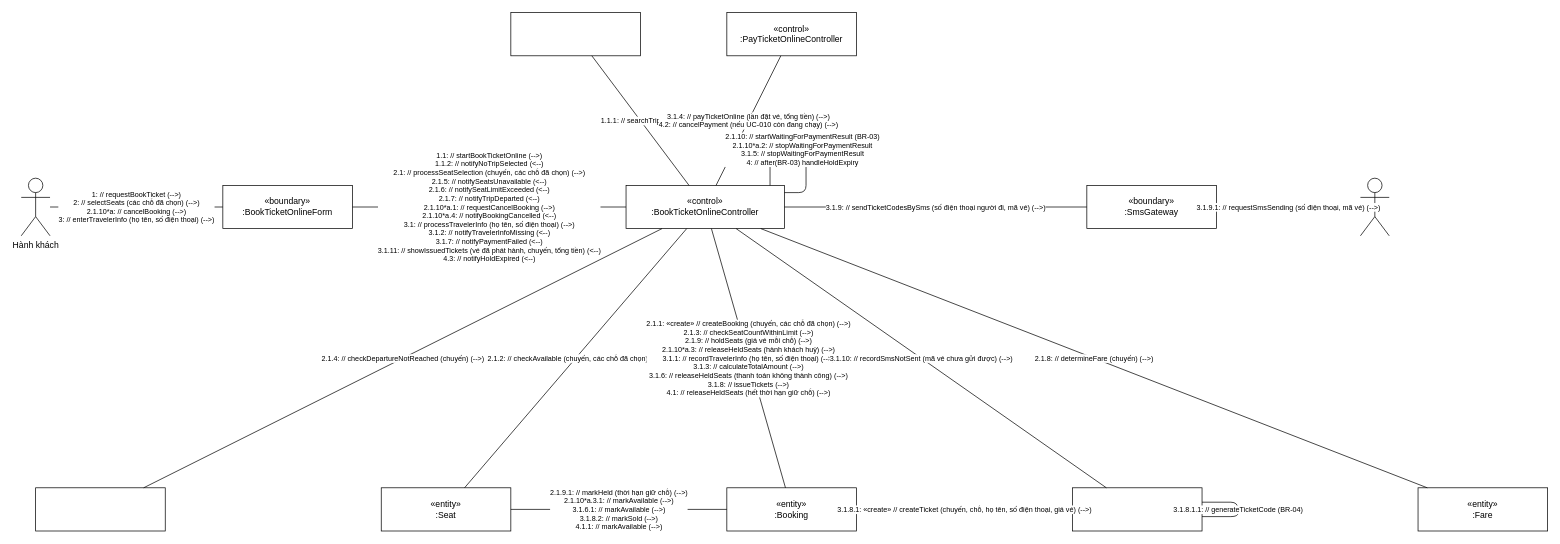
Some shapes in this 1560 by 544 pixel diagram are drawn without their labels. Here are the shapes that lost their labels. From the top down, the box of each, then its label:
(510, 12, 640, 56): «control» :SearchTripsController
(1360, 177, 1389, 236): Cổng SMS
(35, 487, 165, 531): «entity» :Trip
(1072, 487, 1202, 531): «entity» :Ticket
